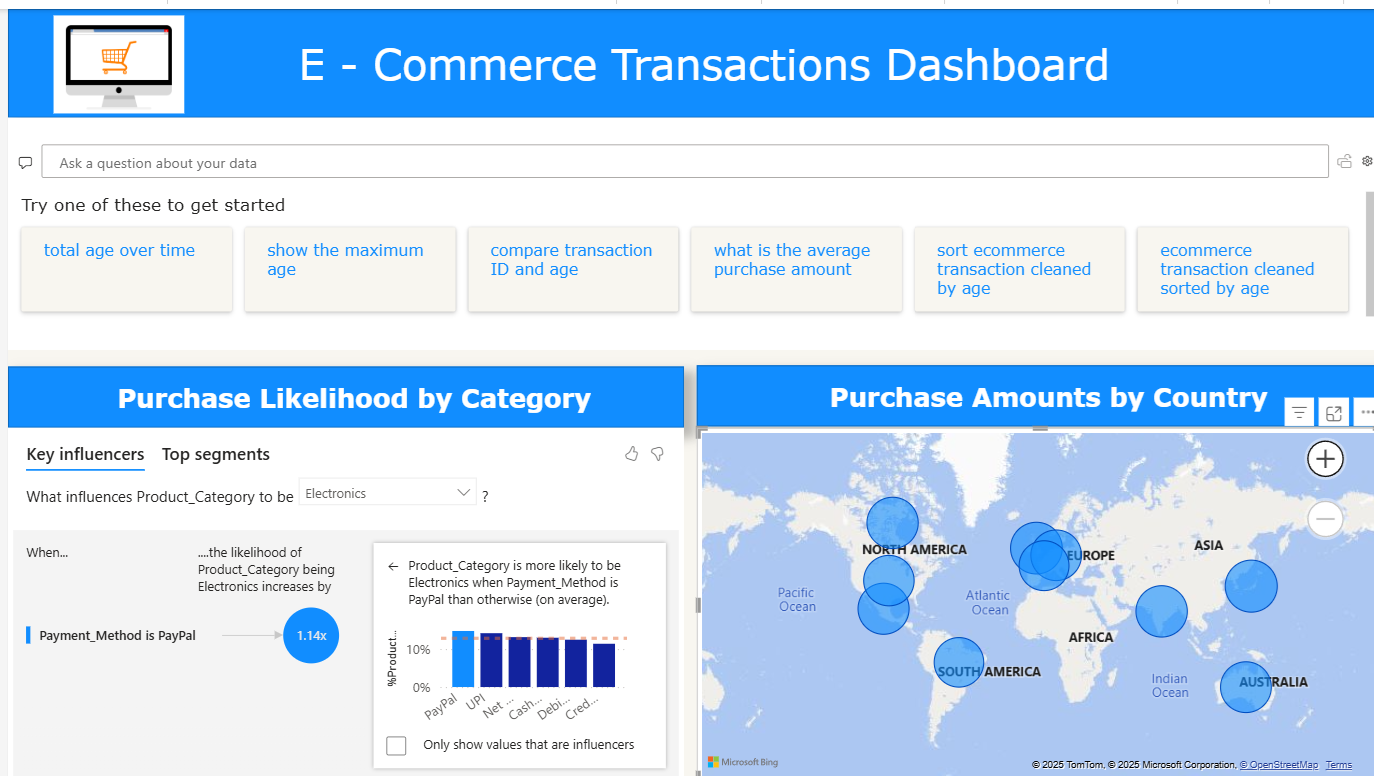

The dashboard page shown, as its layout file describes it:
{"tool":"powerbi","page":{"name":"Dashboard","canvas":[1280,720],"ordinal":1},"visuals":[{"type":"shape","box":[0,0,1280.2,101.2],"z":0},{"type":"shape","box":[0,332.6,629.1,57],"z":1000},{"type":"shape","box":[640.7,331.4,639.5,57],"z":2000},{"type":"qnaVisual","box":[0,101.2,1280.2,216.3],"z":3000},{"type":"map","fields":{"Category":["ecommerce_transactions_cleaned.Country"],"Size":["Sum(ecommerce_transactions_cleaned.Purchase_Amount)"]},"box":[640.7,389.5,639.5,330.2],"z":4000},{"type":"keyDriversVisual","fields":{"Target":["ecommerce_transactions_cleaned.Product_Category"],"ExplainBy":["Sum(ecommerce_transactions_cleaned.Purchase_Amount)","CountNonNull(ecommerce_transactions_cleaned.Transaction_ID)","ecommerce_transactions_cleaned.Country","Sum(ecommerce_transactions_cleaned.Month)","ecommerce_transactions_cleaned.Payment_Method"]},"box":[0,390,629,330],"z":5000},{"type":"image","box":[25.6,1.2,155.8,101.2],"z":6000}]}

Visuals, with their boxes on the page's 1280x720 design canvas (x1, y1, x2, y2). These are canvas units, not pixel positions in the 1374x776 screenshot, which may show the page scaled, cropped or inside an application window:
shape: BBox(0, 0, 1280, 101)
shape: BBox(0, 333, 629, 390)
shape: BBox(641, 331, 1280, 388)
qnaVisual: BBox(0, 101, 1280, 318)
map - ecommerce_transactions_cleaned.Country x Sum(ecommerce_transactions_cleaned.Purchase_Amount): BBox(641, 390, 1280, 720)
keyDriversVisual - ecommerce_transactions_cleaned.Product_Category x Sum(ecommerce_transactions_cleaned.Purchase_Amount): BBox(0, 390, 629, 720)
image: BBox(26, 1, 181, 102)
